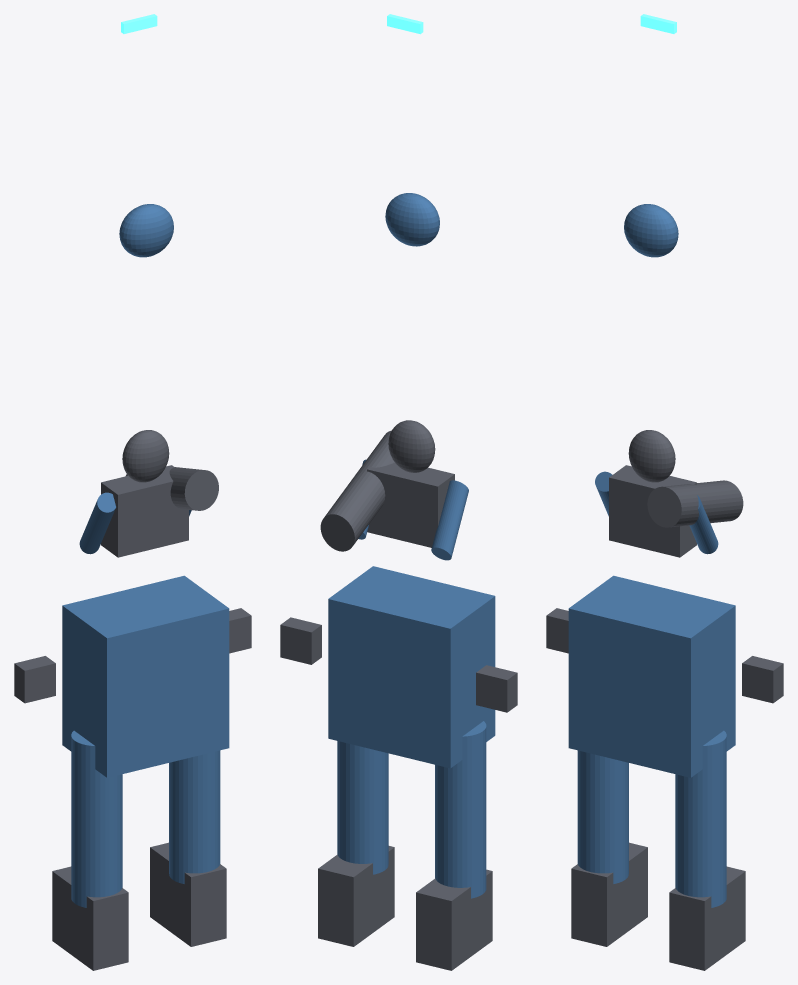
File: AL_LancerTeam_LOD0.glb
3 renders of one model, left to right at view 1: azimuth 30°, elevation 25°; view 2: azimuth 150°, elevation 25°; view 3: azimuth 330°, elevation 25°, orthographic.
Visible parts, largest first — view 1: Cube.004, Cylinder, Cylinder.001, Cube, Cube.001, Cube.005, Sphere.001, Sphere, Cylinder.004, Cube.002, Cylinder.002, Cube.003; view 2: Cube.004, Cylinder, Cylinder.001, Cube, Cube.001, Cube.005, Cylinder.004, Sphere.001, Sphere, Cube.002, Cube.003, Cylinder.002; view 3: Cube.004, Cylinder.001, Cylinder, Cube.001, Cube, Cube.005, Cylinder.004, Sphere.001, Sphere, Cube.003, Cube.002, Cylinder.003.
Boxes of the visible parts, left/top/right/bottom form: Cube.004: left=62, top=575, right=229, bottom=777; Cylinder: left=71, top=730, right=122, bottom=907; Cylinder.001: left=169, top=750, right=220, bottom=883; Cube: left=52, top=866, right=128, bottom=970; Cube.001: left=150, top=842, right=226, bottom=946; Cube.005: left=101, top=465, right=188, bottom=557; Sphere.001: left=119, top=204, right=173, bottom=257; Sphere: left=122, top=430, right=169, bottom=482; Cylinder.004: left=126, top=467, right=218, bottom=510; Cube.002: left=14, top=656, right=55, bottom=703; Cylinder.002: left=79, top=492, right=116, bottom=554; Cube.003: left=229, top=608, right=251, bottom=653; Cube.004: left=328, top=566, right=495, bottom=768; Cylinder: left=435, top=721, right=486, bottom=898; Cylinder.001: left=337, top=741, right=388, bottom=874; Cube: left=416, top=869, right=492, bottom=970; Cube.001: left=318, top=846, right=394, bottom=946; Cube.005: left=367, top=462, right=454, bottom=547; Cylinder.004: left=320, top=430, right=394, bottom=551; Sphere.001: left=385, top=193, right=439, bottom=246; Sphere: left=388, top=420, right=435, bottom=472; Cube.002: left=476, top=665, right=517, bottom=712; Cube.003: left=280, top=617, right=321, bottom=664; Cylinder.002: left=431, top=480, right=468, bottom=560; Cube.004: left=568, top=575, right=735, bottom=777; Cylinder.001: left=675, top=730, right=726, bottom=907; Cylinder: left=577, top=750, right=628, bottom=883; Cube.001: left=669, top=866, right=745, bottom=970; Cube: left=571, top=842, right=647, bottom=946; Cube.005: left=609, top=465, right=696, bottom=557; Cylinder.004: left=647, top=480, right=743, bottom=527; Sphere.001: left=624, top=204, right=678, bottom=257; Sphere: left=628, top=430, right=675, bottom=482; Cube.003: left=742, top=656, right=783, bottom=703; Cube.002: left=546, top=608, right=568, bottom=653; Cylinder.003: left=689, top=495, right=718, bottom=554.
Size of what is drawn, in the model's own units: 1.02 by 3.96 by 0.4997.
